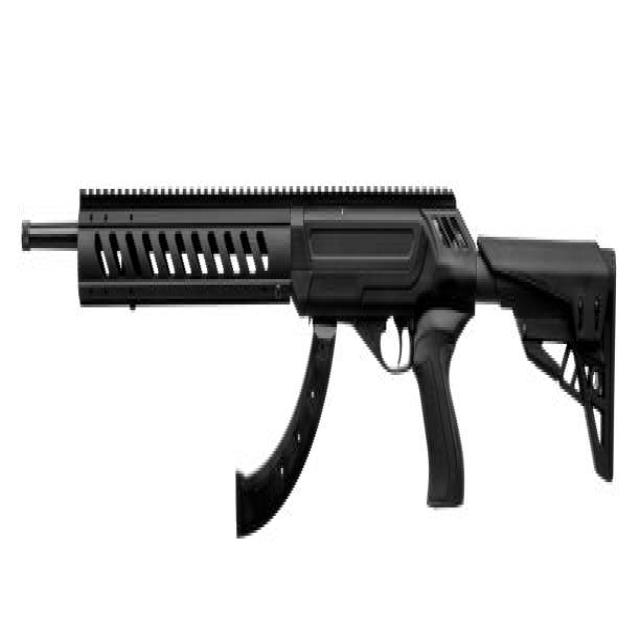rifle: (15, 172, 619, 572)
